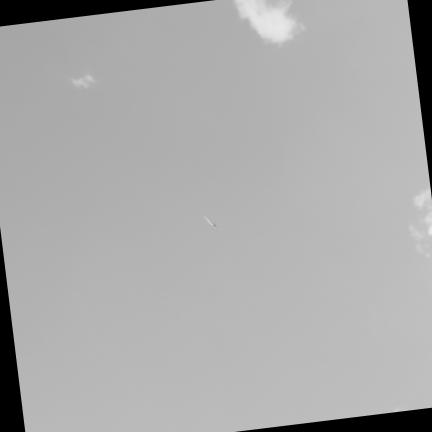Shahed: (202, 214, 216, 227)
